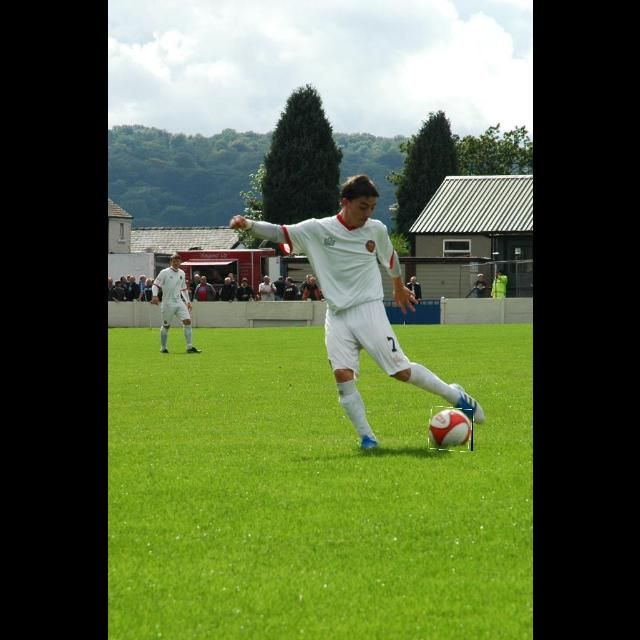Football: (429, 407, 473, 451)
